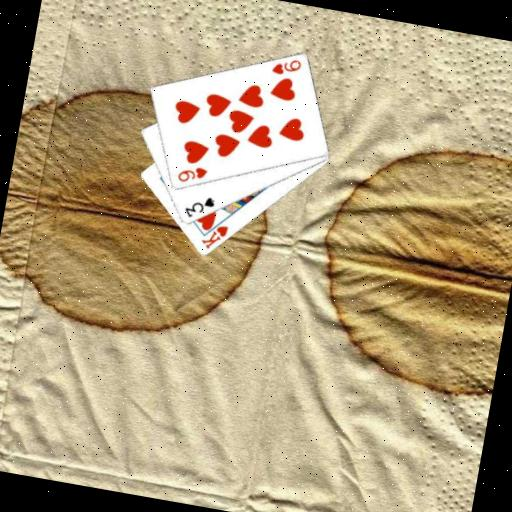3S: (180, 189, 217, 223)
9H: (174, 160, 210, 187), (267, 52, 303, 79)
KH: (197, 219, 230, 254)
